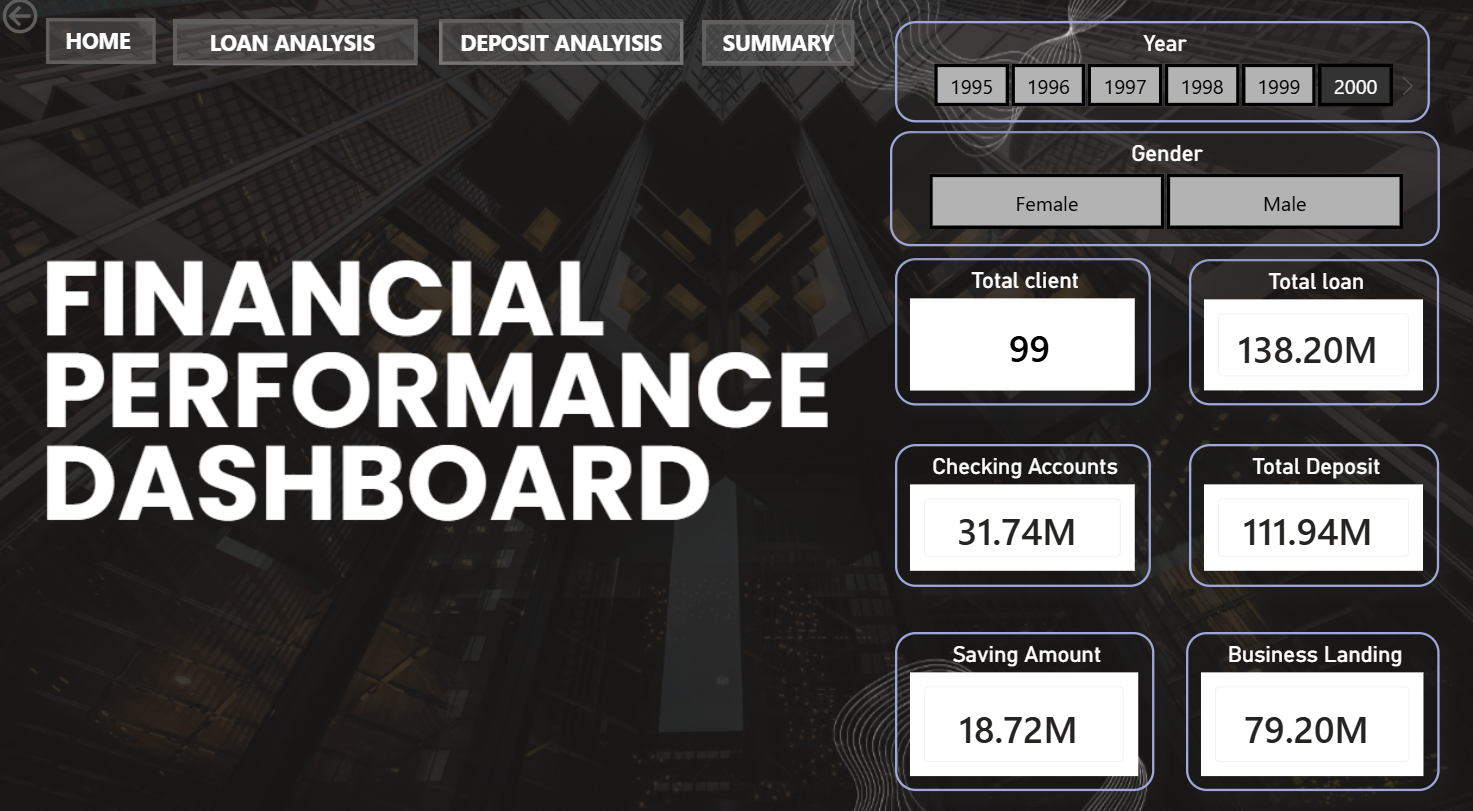

The page's visual inventory and layout, read from the dashboard file:
{"tool":"powerbi","page":{"name":"Home","canvas":[1280,720],"ordinal":0},"visuals":[{"type":"cardVisual","title":"Total loan ","fields":{"Data":["Banking.total loan"]},"box":[1033.9,230.5,216.9,127.4],"z":0},{"type":"cardVisual","title":"Total Deposit ","fields":{"Data":["Banking.total deposit"]},"box":[1033.9,391,216.9,123.5],"z":1000},{"type":"cardVisual","title":"Total client","fields":{"Data":["Banking.total client 2"]},"box":[779.1,229.5,221.8,128.4],"z":2000},{"type":"cardVisual","title":"Checking Accounts","fields":{"Data":["Sum(Banking.Checking Accounts)"]},"box":[779.1,391,221.8,123.5],"z":3000},{"type":"slicer","title":"Gender","fields":{"Values":["Banking.GenderId"]},"box":[774.2,119.6,476.6,100.2],"z":4000},{"type":"slicer","title":"Year ","fields":{"Values":["Banking.Joined Bank.Variation.Date Hierarchy.Year"]},"box":[779.1,24.3,464,87.5],"z":5000},{"type":"cardVisual","title":"Saving Amount","fields":{"Data":["Sum(Banking.Saving Accounts)"]},"box":[779.1,554.4,224.7,138.1],"z":6000},{"type":"cardVisual","title":"Business Landing","fields":{"Data":["Banking.total business landing"]},"box":[1031,554.4,219.8,138.1],"z":7000},{"type":"actionButton","box":[611.8,23.3,132.3,38.9],"z":8000},{"type":"actionButton","box":[383.2,22.4,212,39.9],"z":9000},{"type":"actionButton","box":[152.7,22.4,212,39.9],"z":10000},{"type":"textbox","box":[42.8,23.3,95.3,37],"z":11000},{"type":"actionButton","box":[42.8,21.4,95.3,39.9],"z":12000},{"type":"textbox","box":[152.7,25.3,212,37.9],"z":13000},{"type":"actionButton","box":[152.7,24.3,212,37],"z":14000},{"type":"textbox","box":[383.2,25.3,212,37],"z":15000},{"type":"textbox","box":[611.8,25.3,132.3,36],"z":16000},{"type":"actionButton","box":[611.8,24.3,132.3,38.9],"z":17000},{"type":"actionButton","box":[0,0,100,40],"z":18000}]}

Visuals, with their boxes in screenshot pixels (x1, y1, x2, y2), scaled from the page's 1280x720 canvas onto the 1473x811 screenshot:
"Total loan " cardVisual: x1=1190, y1=260, x2=1439, y2=403
"Total Deposit " cardVisual: x1=1190, y1=440, x2=1439, y2=580
"Total client" cardVisual: x1=897, y1=259, x2=1152, y2=403
"Checking Accounts" cardVisual: x1=897, y1=440, x2=1152, y2=580
"Gender" slicer: x1=891, y1=135, x2=1439, y2=248
"Year " slicer: x1=897, y1=27, x2=1431, y2=126
"Saving Amount" cardVisual: x1=897, y1=624, x2=1155, y2=780
"Business Landing" cardVisual: x1=1186, y1=624, x2=1439, y2=780
actionButton: x1=704, y1=26, x2=856, y2=70
actionButton: x1=441, y1=25, x2=685, y2=70
actionButton: x1=176, y1=25, x2=420, y2=70
textbox: x1=49, y1=26, x2=159, y2=68
actionButton: x1=49, y1=24, x2=159, y2=69
textbox: x1=176, y1=28, x2=420, y2=71
actionButton: x1=176, y1=27, x2=420, y2=69
textbox: x1=441, y1=28, x2=685, y2=70
textbox: x1=704, y1=28, x2=856, y2=69
actionButton: x1=704, y1=27, x2=856, y2=71
actionButton: x1=0, y1=0, x2=115, y2=45
